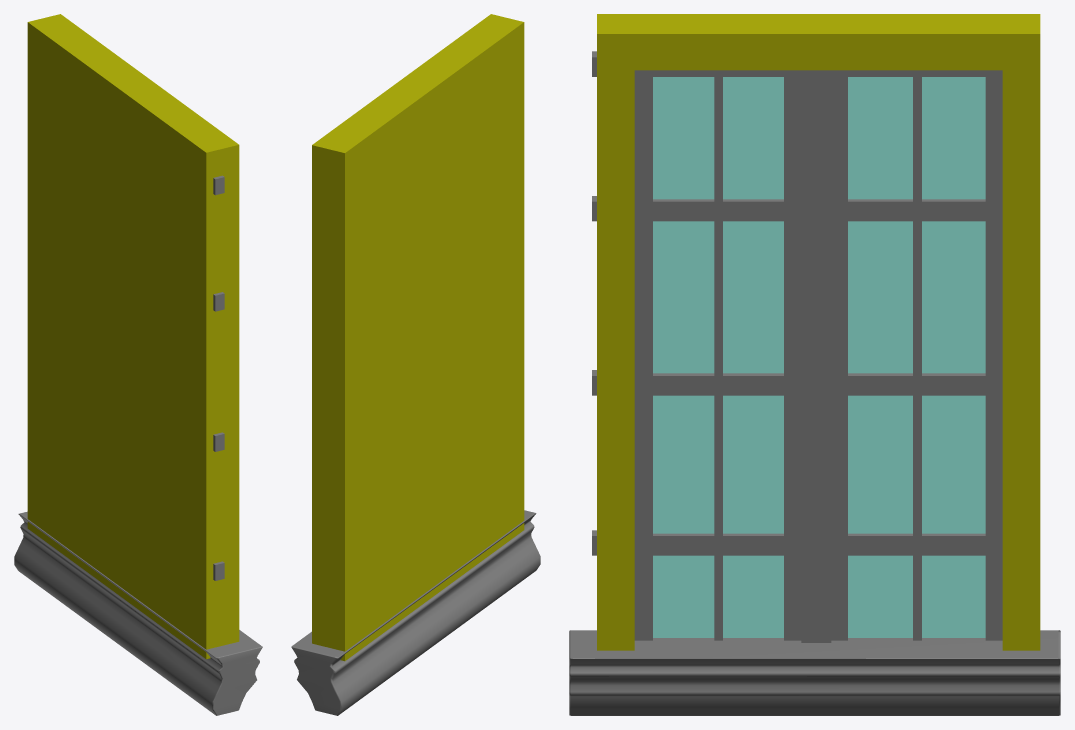
Rendered from WindowLastDiningroom.fbx.
3 views of the same model, side by side, from view 1: azimuth 30°, elevation 25°; view 2: azimuth 150°, elevation 25°; view 3: azimuth 270°, elevation 25° (orthographic). The views are drawn at different scales.
Parts seen in each view (by area): view 1: polySurface36, pCube231; view 2: polySurface36, pCube231; view 3: polySurface35, polySurface36, pCube231, pCube228, pCube230, pCube225, pCube227, pCube229, pCube223, pCube222, pCube226, pCube221 (+2 smaller).
Boxes of the visible parts, bbox=[...] form: polySurface36: bbox=[27, 14, 239, 659]; pCube231: bbox=[14, 511, 262, 715]; polySurface36: bbox=[312, 14, 524, 661]; pCube231: bbox=[291, 510, 540, 715]; polySurface35: bbox=[653, 77, 985, 637]; polySurface36: bbox=[597, 14, 1040, 650]; pCube231: bbox=[569, 630, 1060, 715]; pCube228: bbox=[801, 70, 831, 642]; pCube230: bbox=[634, 70, 652, 640]; pCube225: bbox=[985, 70, 1002, 640]; pCube227: bbox=[784, 70, 801, 640]; pCube229: bbox=[831, 70, 847, 640]; pCube223: bbox=[592, 196, 1002, 221]; pCube222: bbox=[592, 370, 1002, 395]; pCube226: bbox=[592, 530, 1002, 555]; pCube221: bbox=[714, 70, 722, 640].
Size of the model in its own units: 46.52 by 483 by 312.
